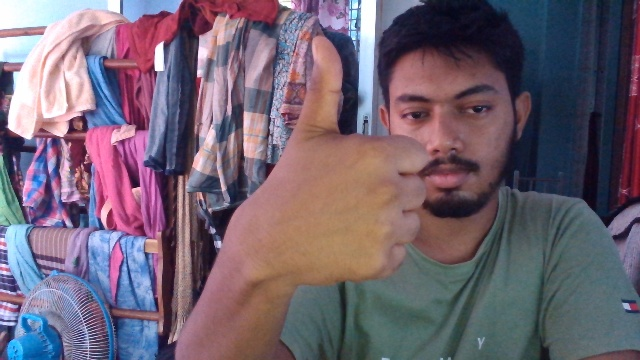yes: (241, 22, 427, 295)
